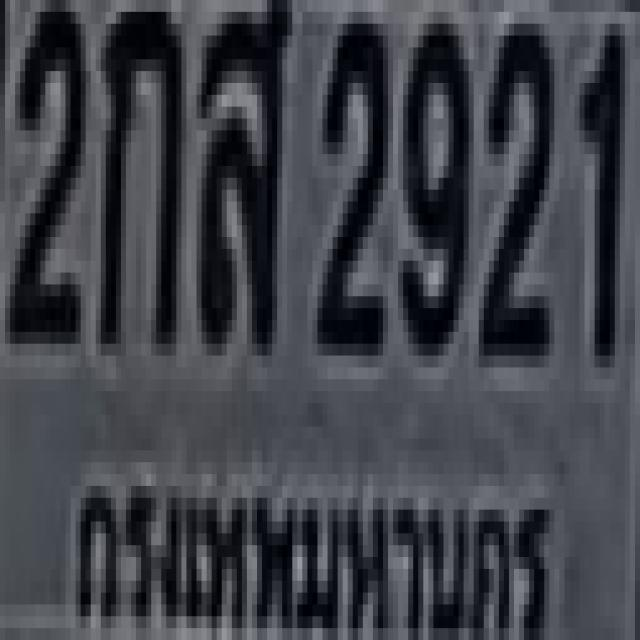1: (574, 12, 620, 355)
2: (5, 0, 81, 332), (312, 0, 383, 344), (479, 12, 549, 344)
9: (398, 12, 464, 344)
A01: (96, 0, 176, 344)
A40: (197, 0, 287, 344)
BKK: (61, 458, 558, 640)
